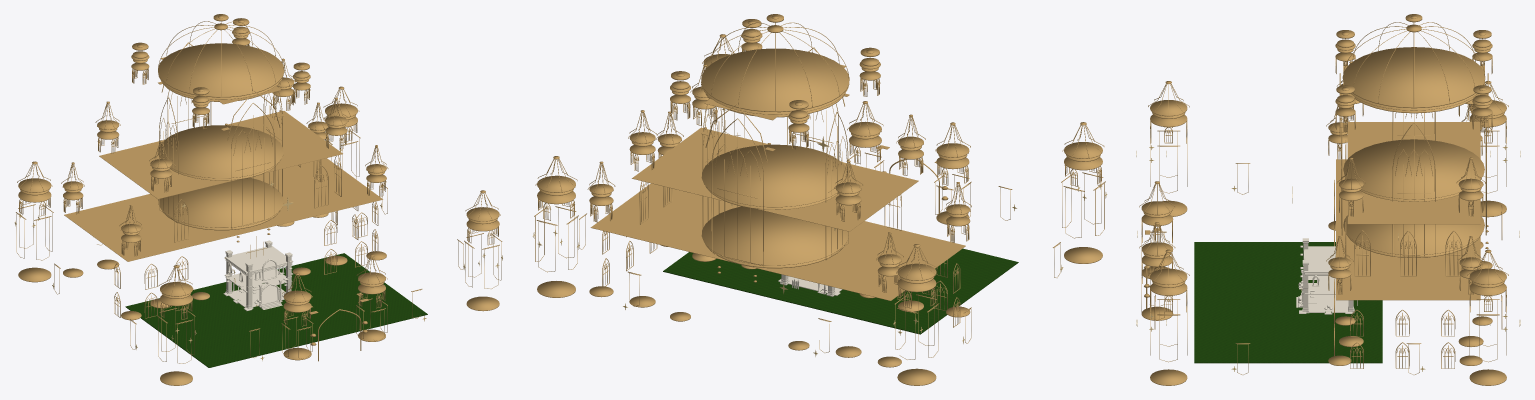
File: Catalog-07.glb
3 views of the same model, side by side, from view 1: azimuth 30°, elevation 25°; view 2: azimuth 150°, elevation 25°; view 3: azimuth 270°, elevation 25° (orthographic). The views are drawn at different scales.
Visible parts, largest first — view 1: Aged Gold, Town Grass, Pale Carved Stone; view 2: Aged Gold, Town Grass, Pale Carved Stone; view 3: Aged Gold, Town Grass, Pale Carved Stone.
Part boxes in pixels (<box>): Aged Gold: <box>16,14,502,385</box>; Town Grass: <box>125,253,427,367</box>; Pale Carved Stone: <box>223,240,293,310</box>; Aged Gold: <box>534,14,1105,385</box>; Town Grass: <box>663,248,1018,334</box>; Pale Carved Stone: <box>778,274,842,296</box>; Aged Gold: <box>1139,14,1508,385</box>; Town Grass: <box>1194,242,1382,363</box>; Pale Carved Stone: <box>1296,238,1357,314</box>.
Bounding box in the file's own units: 77.29 × 55.3 × 67.34.
5 materials, 1 textured.
